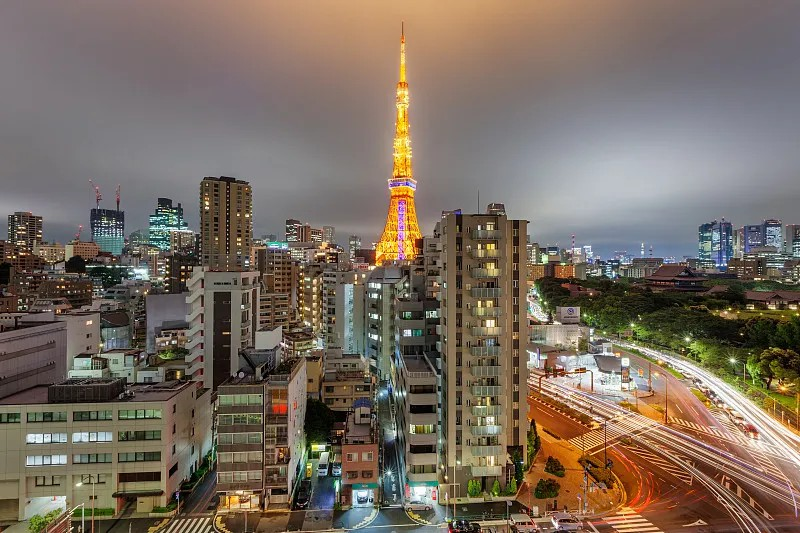Tokyo: (375, 18, 422, 262)
